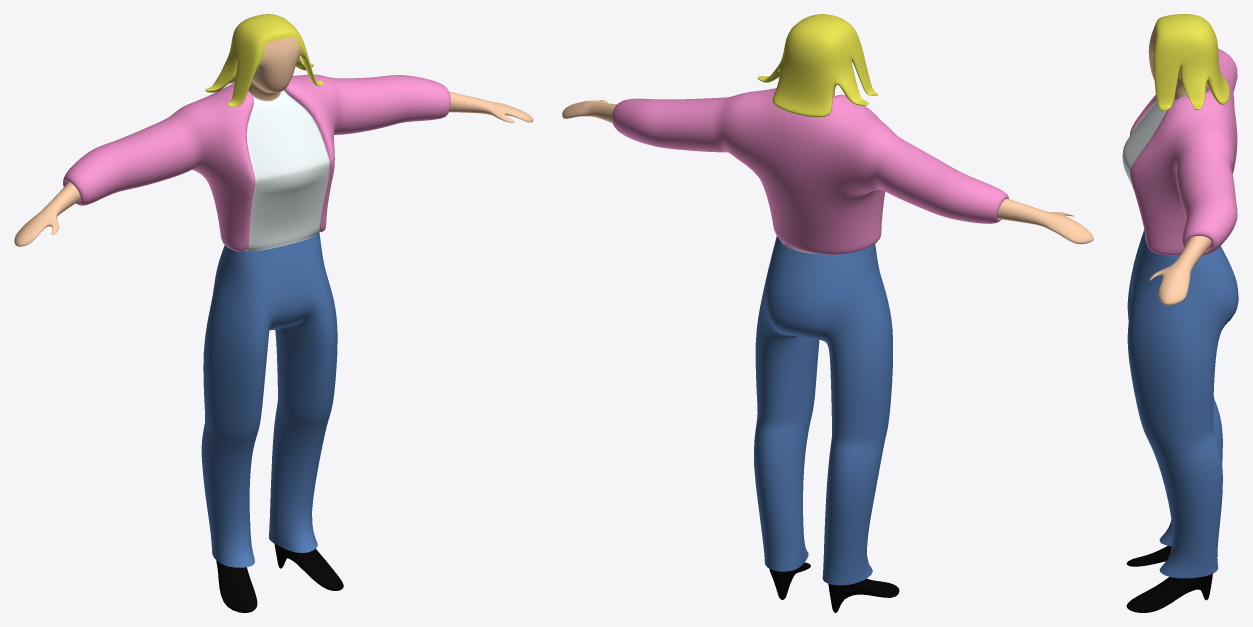
The model's file is woman.fbx.
3 renders of one model, left to right at view 1: azimuth 30°, elevation 25°; view 2: azimuth 150°, elevation 25°; view 3: azimuth 270°, elevation 25°, orthographic. The views are drawn at different scales.
Parts seen in each view (by area): view 1: Cube.004; view 2: Cube.004; view 3: Cube.004.
Part boxes in pixels (x1,y1,x2,y2): Cube.004: (14, 14, 533, 612); Cube.004: (562, 14, 1093, 612); Cube.004: (1122, 14, 1238, 612).
Size of the model in its own units: 171 by 178 by 32.94.
